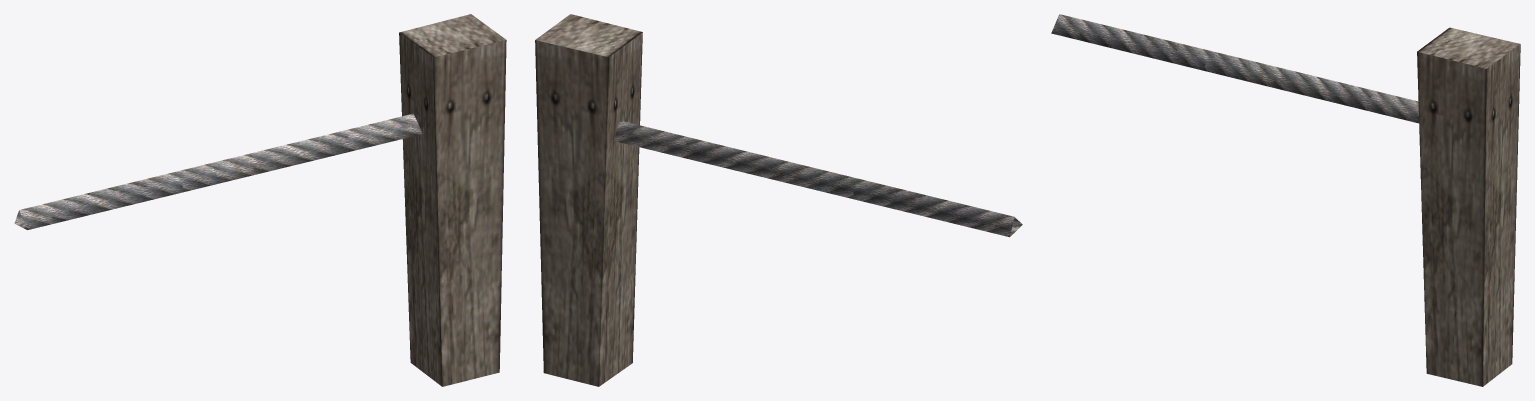
Rendered from d_sg_shouyou_langan02_qt.FBX.
3 views of the same model, side by side, from view 1: azimuth 30°, elevation 25°; view 2: azimuth 150°, elevation 25°; view 3: azimuth 330°, elevation 25° (orthographic). The views are drawn at different scales.
Visible parts, largest first — view 1: d_sg_shouyou_matou01_qt; view 2: d_sg_shouyou_matou01_qt; view 3: d_sg_shouyou_matou01_qt.
Boxes of the visible parts, left/top/right/bottom form: d_sg_shouyou_matou01_qt: left=14, top=14, right=506, bottom=386; d_sg_shouyou_matou01_qt: left=535, top=14, right=1022, bottom=386; d_sg_shouyou_matou01_qt: left=1051, top=14, right=1520, bottom=386.
Bounding box in the file's own units: 1.92 × 1.31 × 0.2539.
